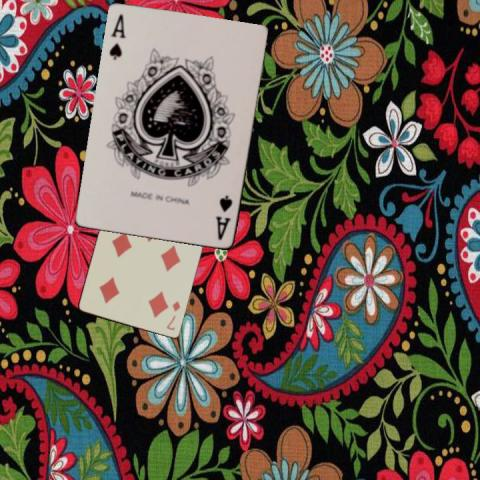7d: (163, 298, 182, 332)
As: (106, 11, 126, 62), (213, 193, 234, 241)
